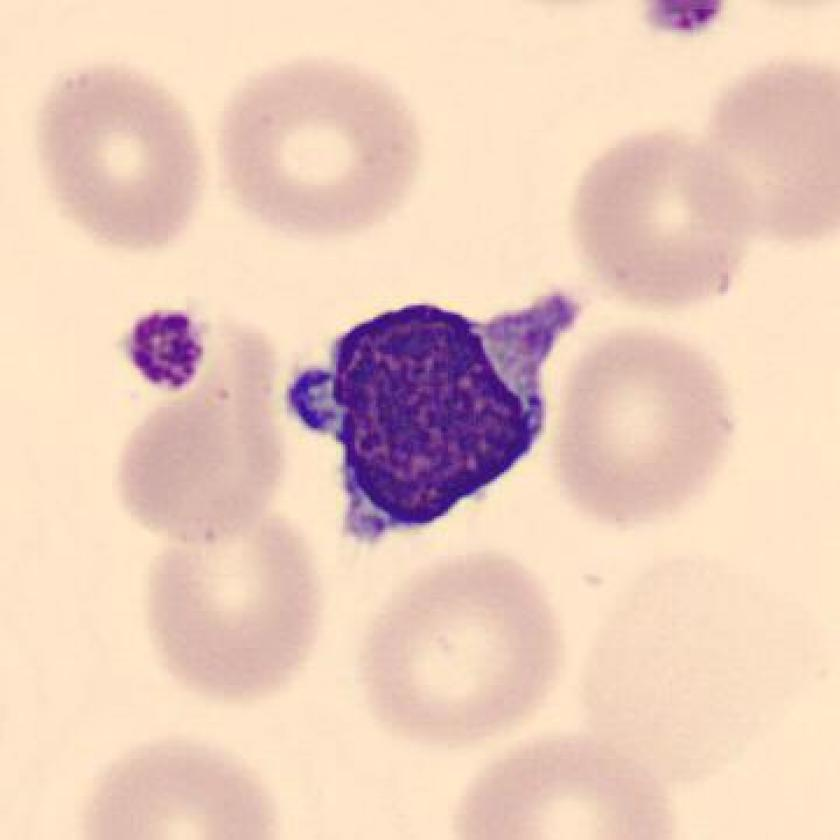lymphocyte: (274, 274, 605, 559)
platelets: (117, 298, 214, 393), (632, 1, 731, 38)
